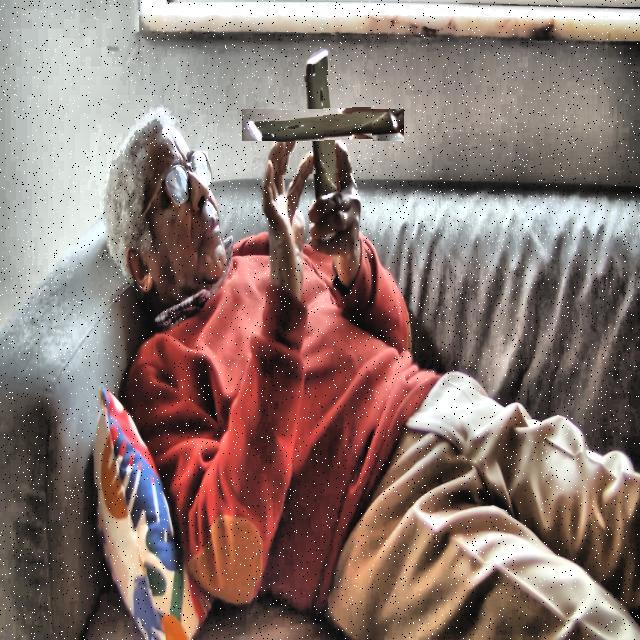Phone: (274, 76, 373, 174)
